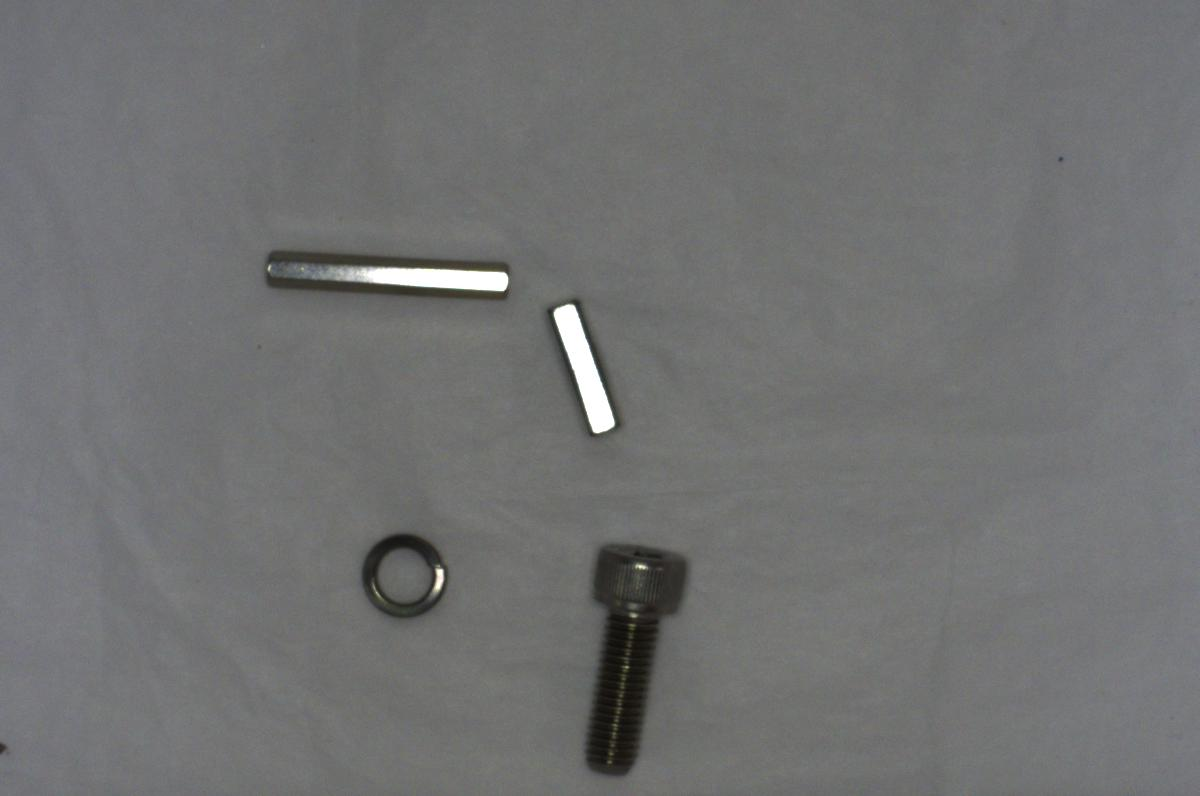Double hexagonal column: (254, 240, 515, 300)
Hexagon screw: (571, 536, 688, 768)
Rectangular nut: (545, 296, 618, 440)
Spring washer: (351, 528, 461, 629)
